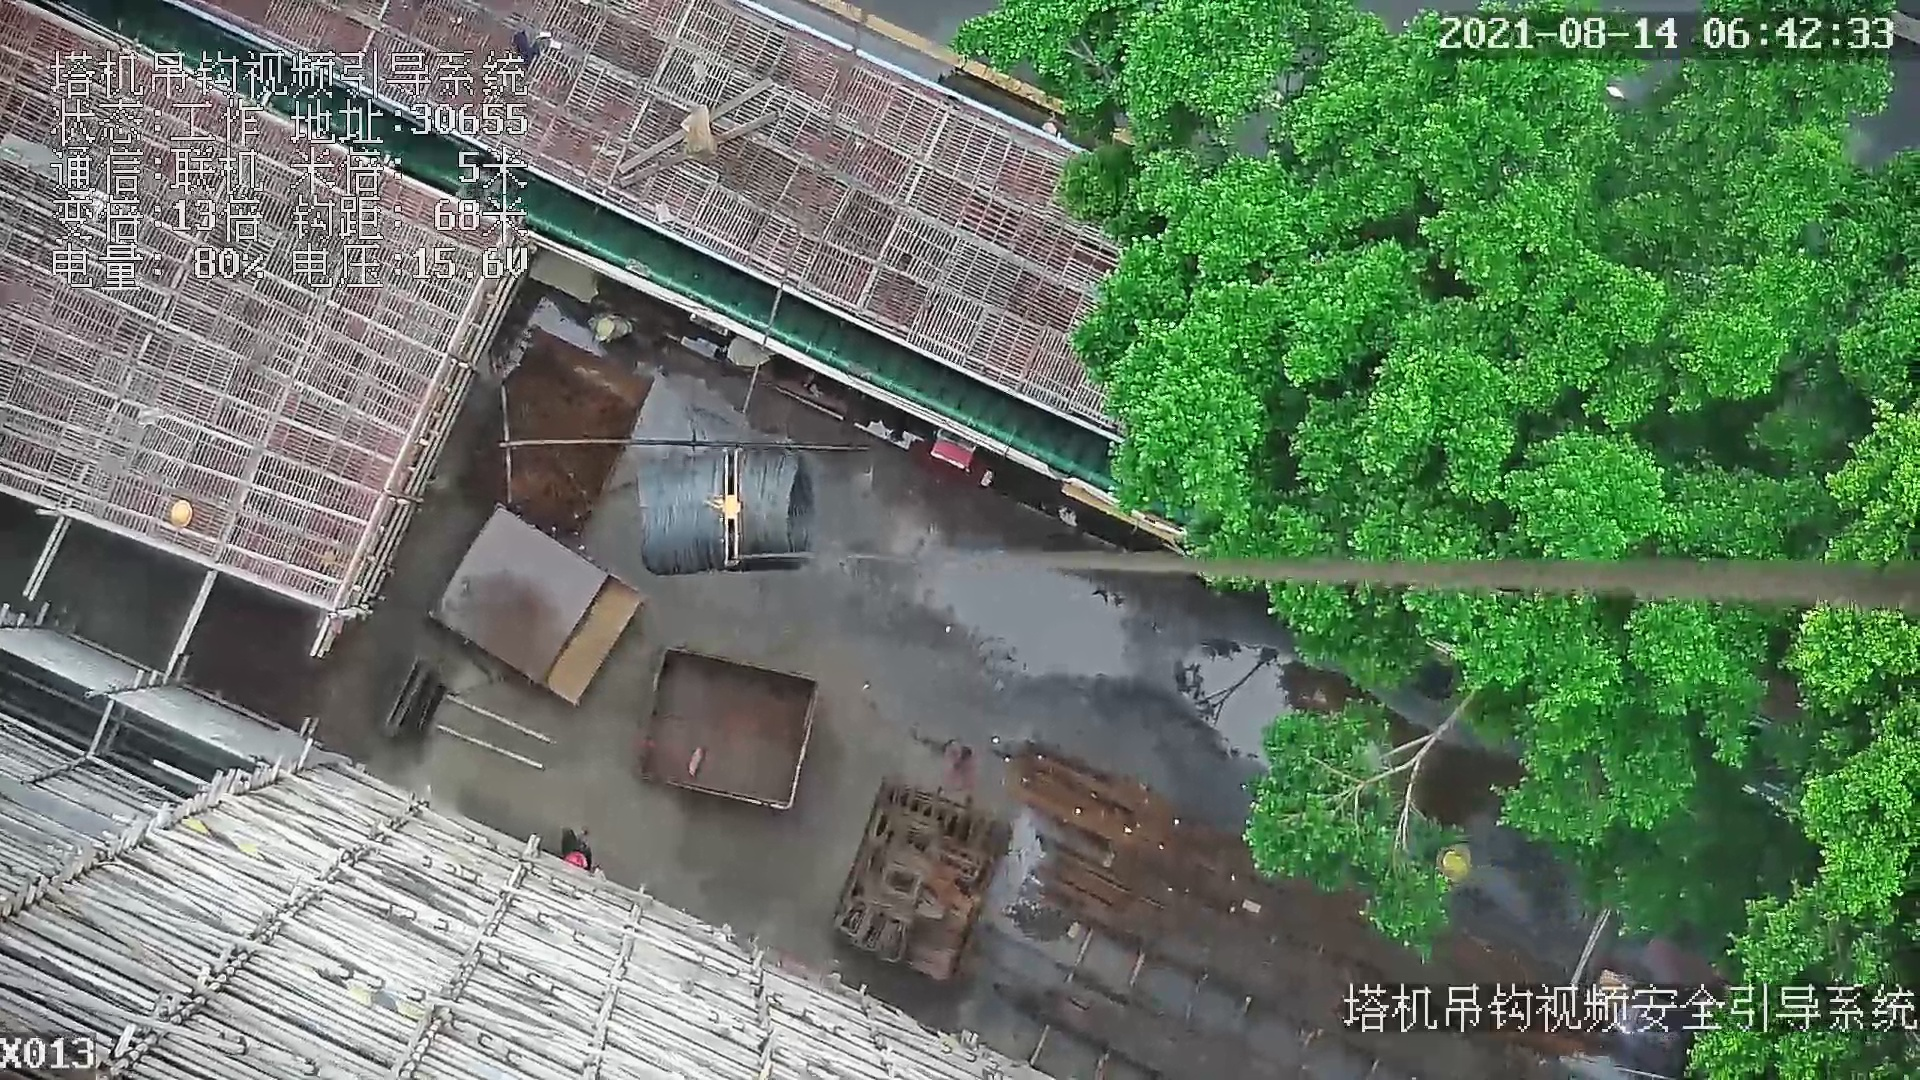helmet: (1445, 852, 1466, 878), (595, 322, 614, 339)
hook: (701, 449, 742, 569)
person: (1432, 832, 1473, 893), (582, 311, 634, 350), (564, 827, 595, 867)
